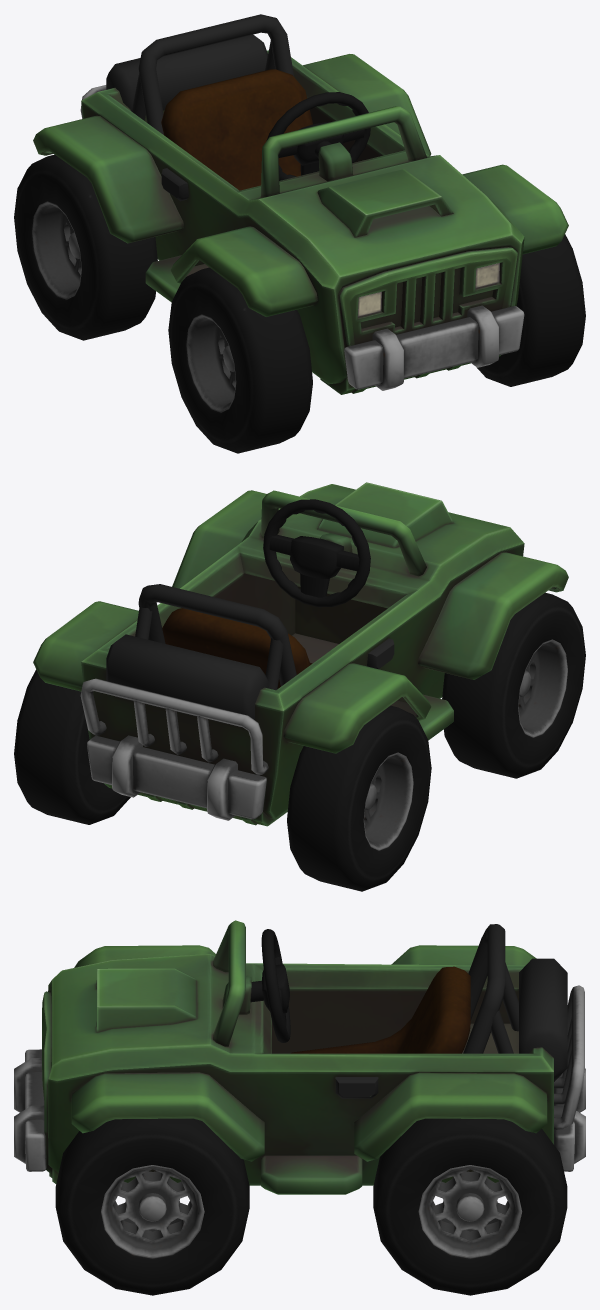
The model's file is BaseRaceKart3.gltf.
3 views of the same model, one above another, from view 1: azimuth 30°, elevation 25°; view 2: azimuth 150°, elevation 25°; view 3: azimuth 270°, elevation 25° (orthographic). The views are drawn at different scales.
Parts seen in each view (by area): view 1: Body.005, wheel-front-right, wheel-back-right, wheel-front-left, SteeringWheel.007; view 2: Body.005, wheel-back-right, wheel-front-right, wheel-back-left, SteeringWheel.007; view 3: Body.005, wheel-back-left, wheel-front-left, SteeringWheel.007.
Boxes of the visible parts, x1,y1,x2,y2 form: Body.005: [33, 14, 568, 394]; wheel-front-right: [168, 267, 312, 453]; wheel-back-right: [14, 154, 157, 340]; wheel-front-left: [476, 234, 585, 386]; SteeringWheel.007: [266, 92, 370, 180]; Body.005: [33, 482, 568, 826]; wheel-back-right: [287, 705, 431, 891]; wheel-front-right: [442, 592, 585, 778]; wheel-back-left: [14, 669, 130, 824]; SteeringWheel.007: [263, 499, 370, 607]; Body.005: [14, 920, 585, 1194]; wheel-back-left: [373, 1118, 567, 1295]; wheel-front-left: [55, 1118, 249, 1295]; SteeringWheel.007: [261, 929, 290, 1042].
Size of the model in its own units: 1.6 by 1.25 by 2.31.
1 material, 1 textured.
